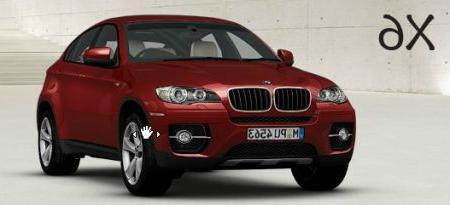Car: (16, 6, 363, 205)
